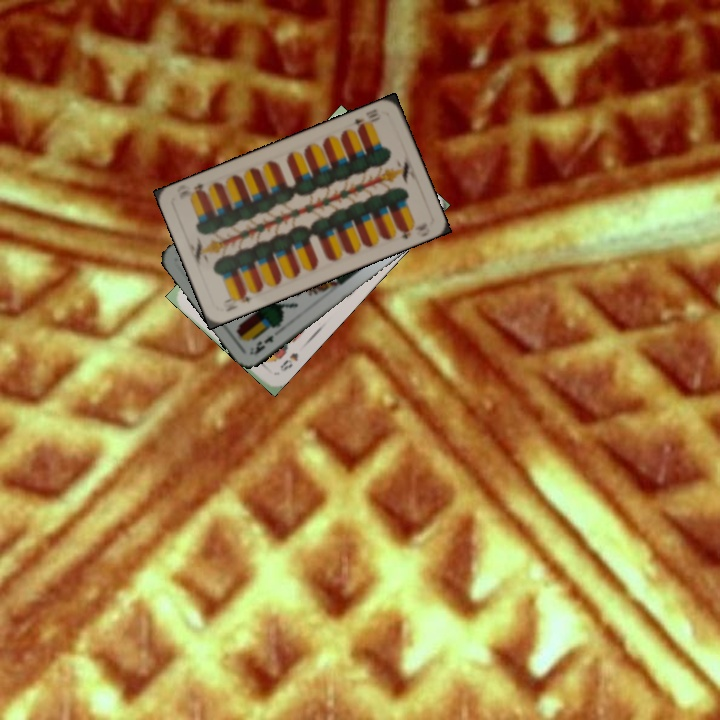E10: (349, 105, 381, 133), (229, 287, 254, 307)
EK: (249, 331, 276, 358)
S8: (276, 348, 301, 374)
